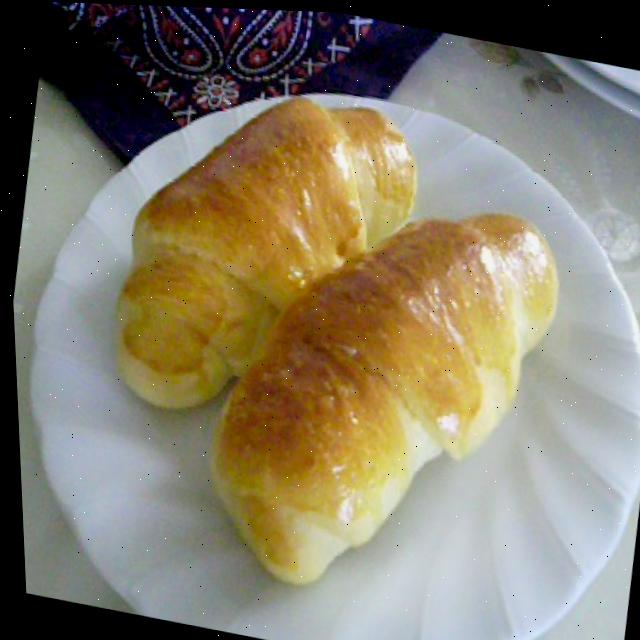面包点心: (64, 58, 595, 637)
